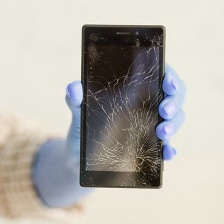phone: (77, 21, 169, 192)
